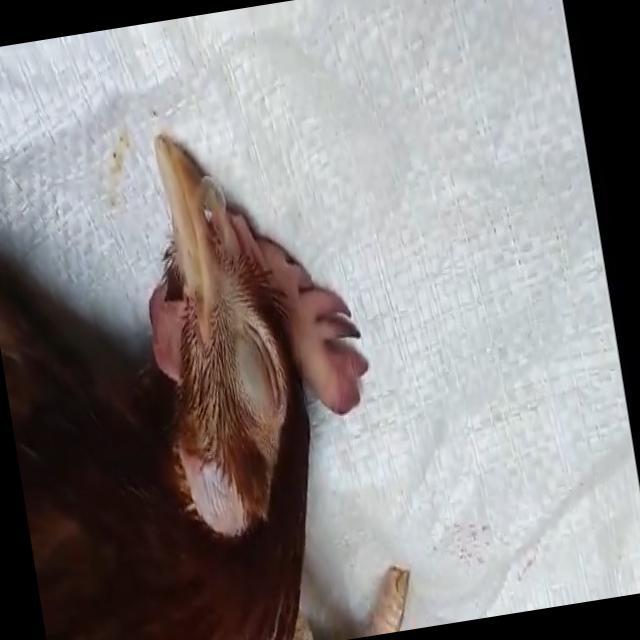bird flu: (0, 106, 420, 640)
